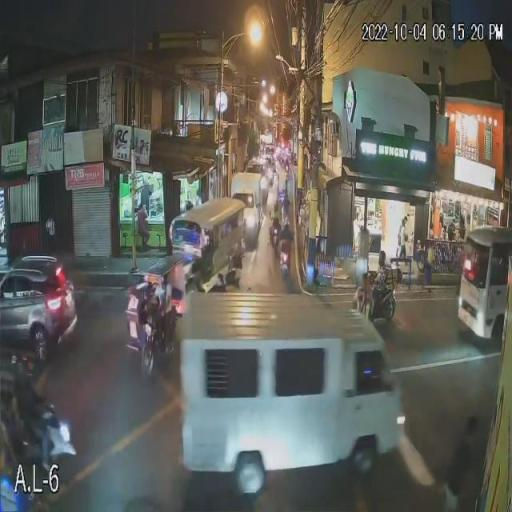helmet: (9, 358, 34, 388), (378, 250, 387, 265)
motorcycle: (0, 390, 77, 466), (136, 304, 174, 378), (354, 280, 398, 328), (278, 244, 292, 282), (270, 224, 282, 256)
rider: (0, 358, 46, 436), (147, 278, 177, 328), (366, 251, 390, 308), (278, 222, 292, 256), (270, 205, 280, 235)
